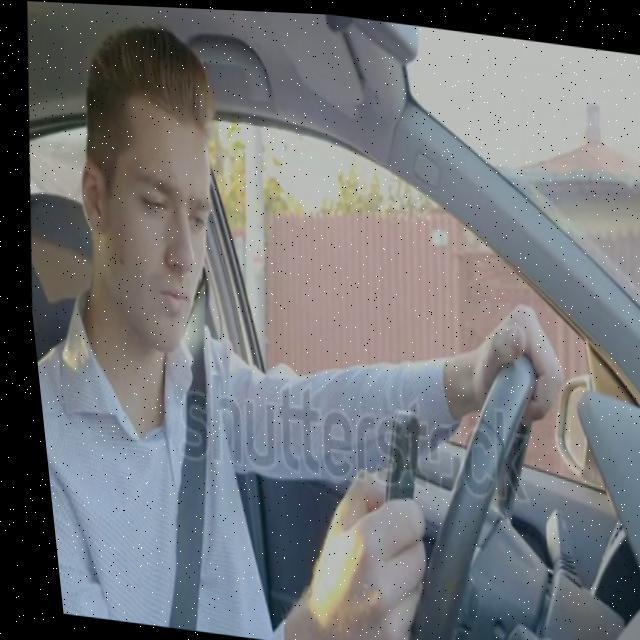PhoneCall: (359, 402, 426, 546)
